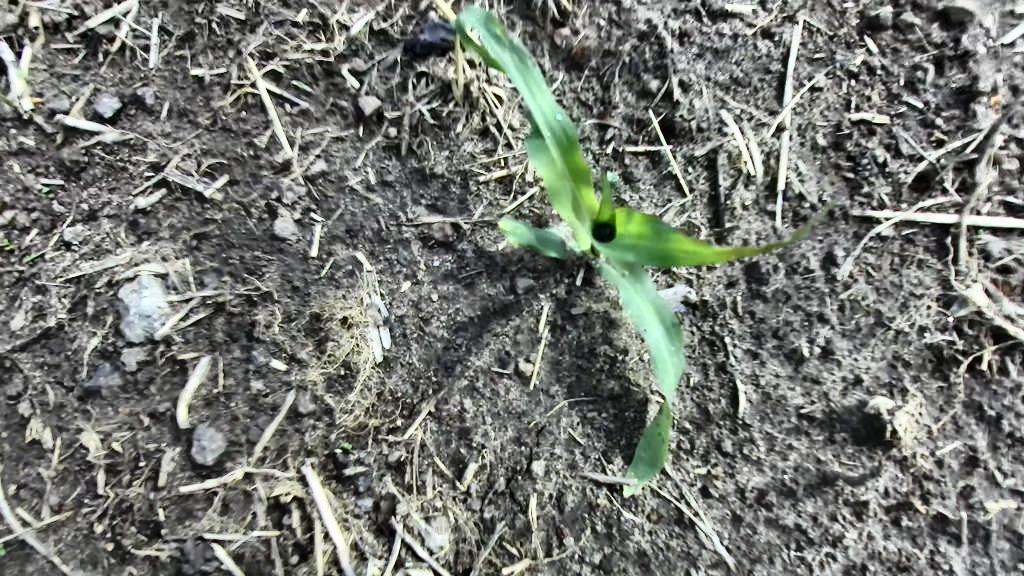BroWeed: (341, 440, 354, 451), (3, 242, 16, 251), (41, 186, 51, 195), (0, 238, 9, 246), (0, 544, 5, 556)
